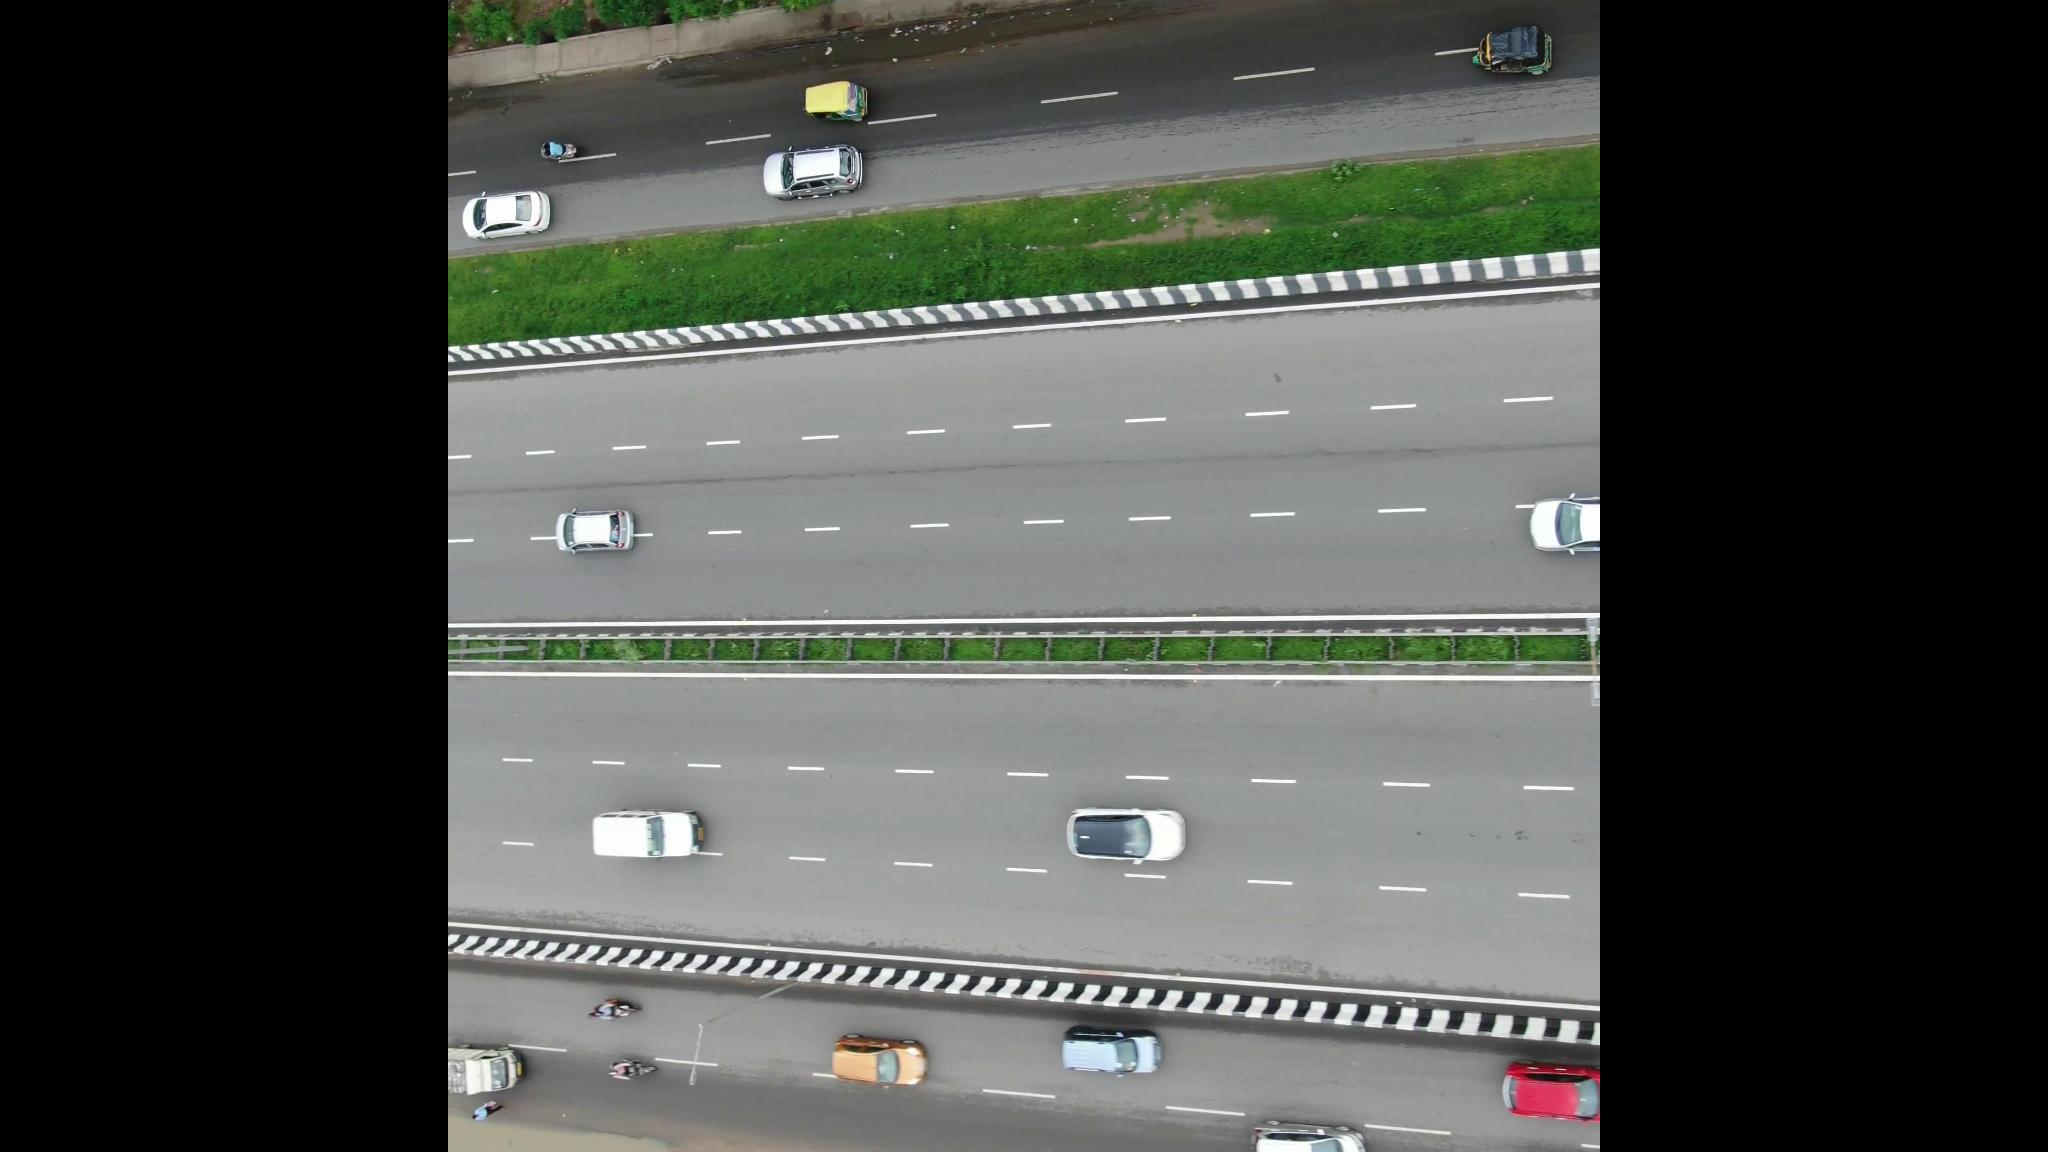Ravelling: (511, 456, 942, 492)
Waterlogging: (817, 18, 1027, 68), (466, 1115, 716, 1152)
